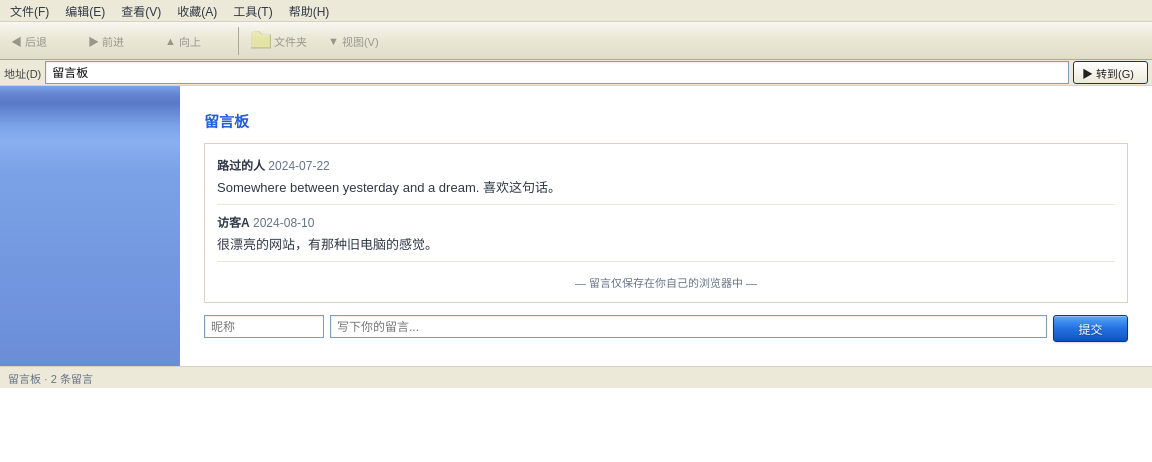
submit › adds a message on valid submit and persists it
Type "测试者" into the field with class "gb-name".
click(264, 326); type("测试者")  # box left=204, top=315, right=324, bottom=338
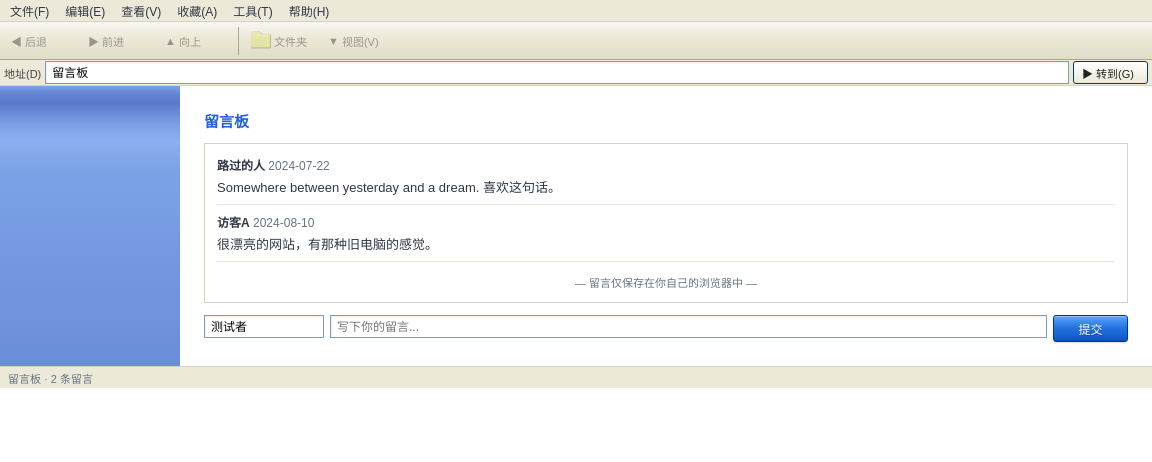
Type "新留言" into the field with class "gb-input".
click(688, 326); type("新留言")  # box left=330, top=315, right=1047, bottom=338
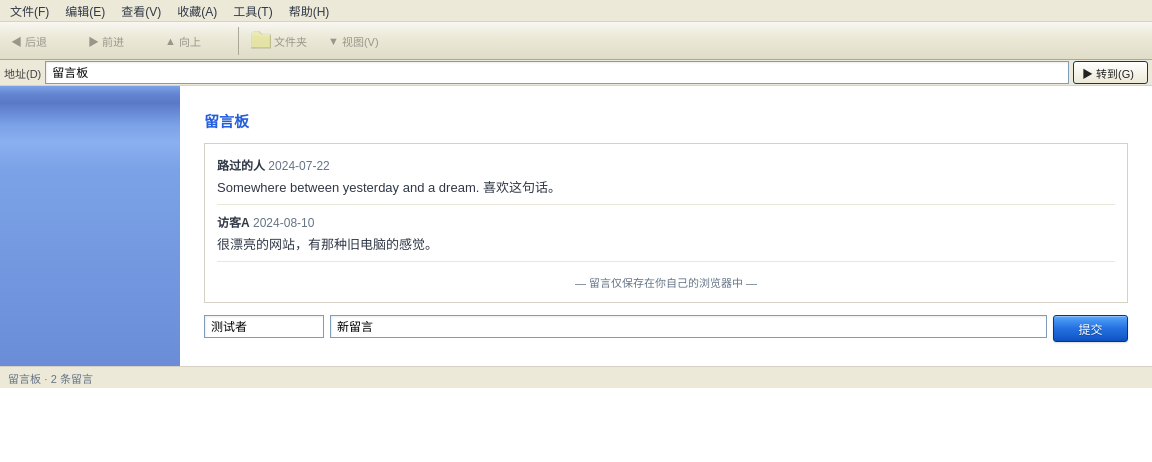
Click the button with class "xp-btn".
click(1090, 328)  # box left=1053, top=315, right=1128, bottom=342
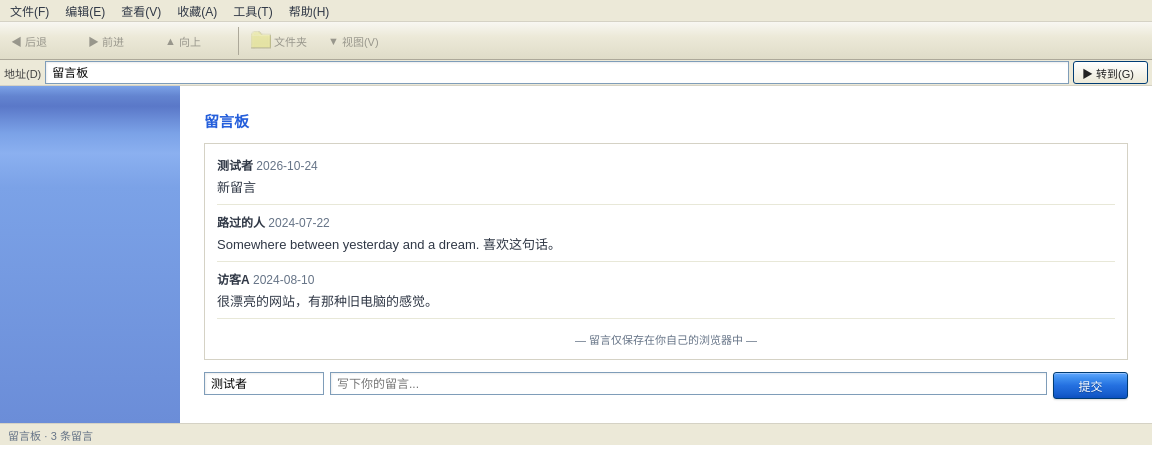
Expected: the text "测试者" is shown, left=217, top=159, right=253, bottom=173
Expected: the field with class "gb-input" is empty, left=330, top=372, right=1047, bottom=395
